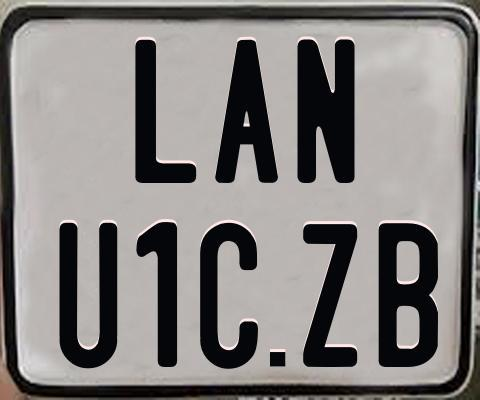1: (134, 219, 178, 365)
A: (212, 37, 278, 185)
B: (375, 222, 436, 369)
C: (199, 221, 263, 368)
L: (132, 40, 196, 186)
N: (297, 36, 360, 186)
U: (56, 223, 119, 370)
Z: (303, 224, 357, 367)
